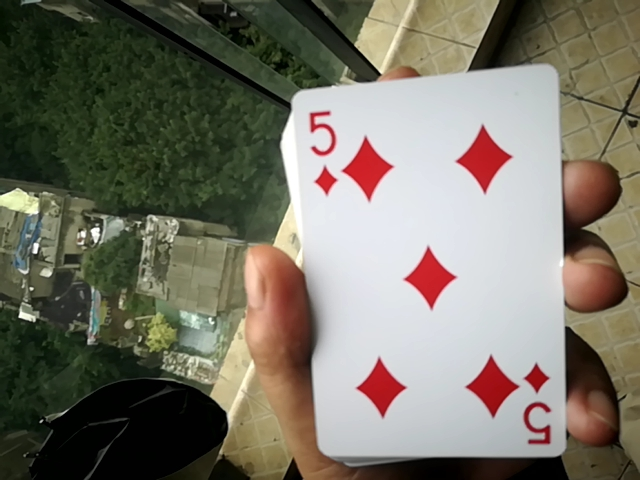fk 5: (254, 68, 571, 462)
